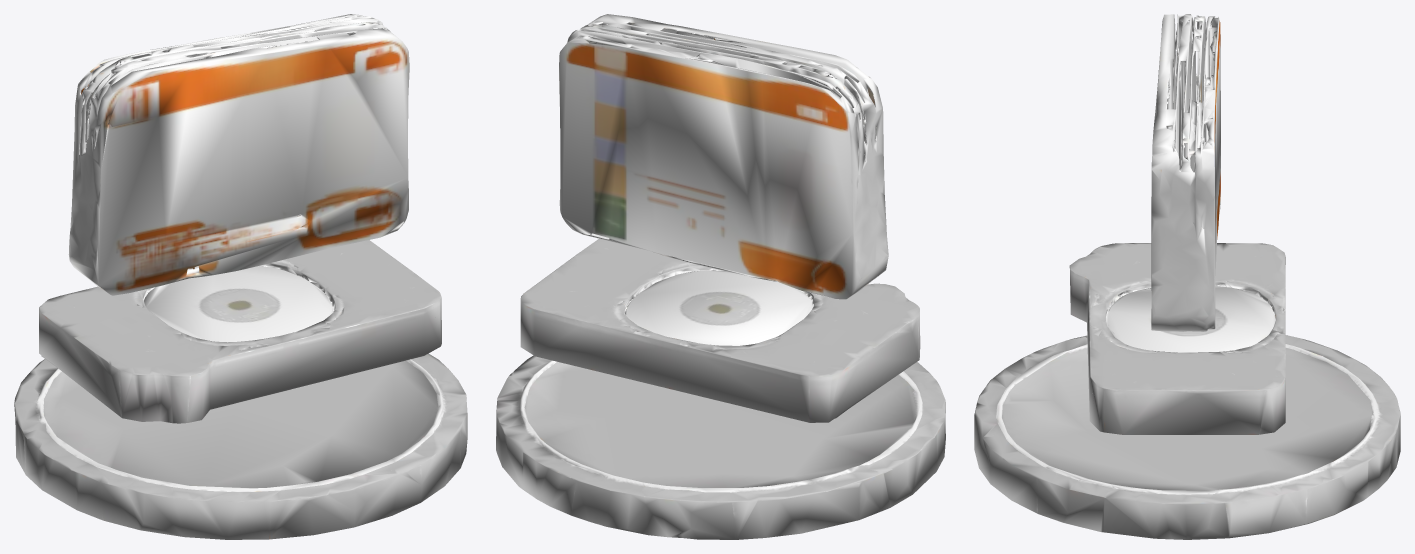
Rendered from room-02-hero.glb.
3 renders of one model, left to right at view 1: azimuth 30°, elevation 25°; view 2: azimuth 150°, elevation 25°; view 3: azimuth 270°, elevation 25°, orthographic. The views are drawn at different scales.
Visible parts, largest first — view 1: geometry_0; view 2: geometry_0; view 3: geometry_0.
Boxes of the visible parts, left/top/right/bottom form: geometry_0: left=14, top=14, right=467, bottom=539; geometry_0: left=496, top=14, right=945, bottom=539; geometry_0: left=974, top=14, right=1400, bottom=539.
Bounding box in the file's own units: 1 × 0.999 × 1.
1 material, 1 textured.
